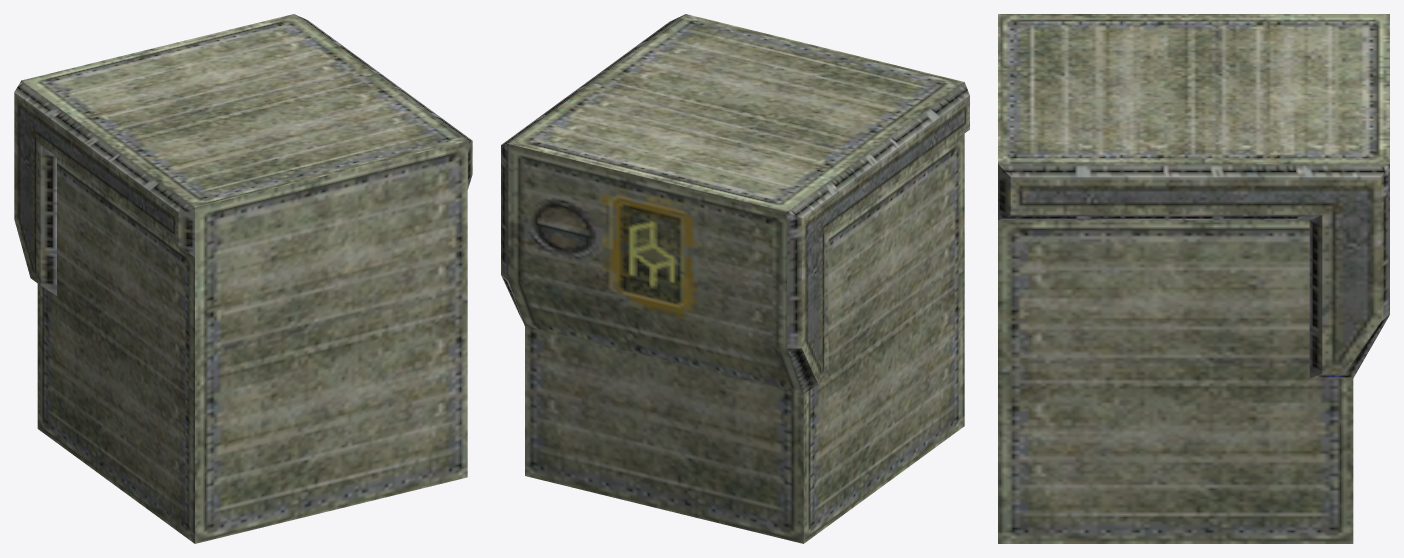
The model's file is con_man_furniture_sm_l0.fbx.
3 views of the same model, side by side, from view 1: azimuth 30°, elevation 25°; view 2: azimuth 150°, elevation 25°; view 3: azimuth 270°, elevation 25° (orthographic). The views are drawn at different scales.
Parts seen in each view (by area): view 1: mesh_node; view 2: mesh_node; view 3: mesh_node.
Part boxes in pixels (left/top/right/bottom): mesh_node: left=14, top=14, right=472, bottom=543; mesh_node: left=501, top=14, right=969, bottom=543; mesh_node: left=998, top=14, right=1389, bottom=543.
Size of the model in its own units: 0.7868 by 0.8601 by 0.8045.
